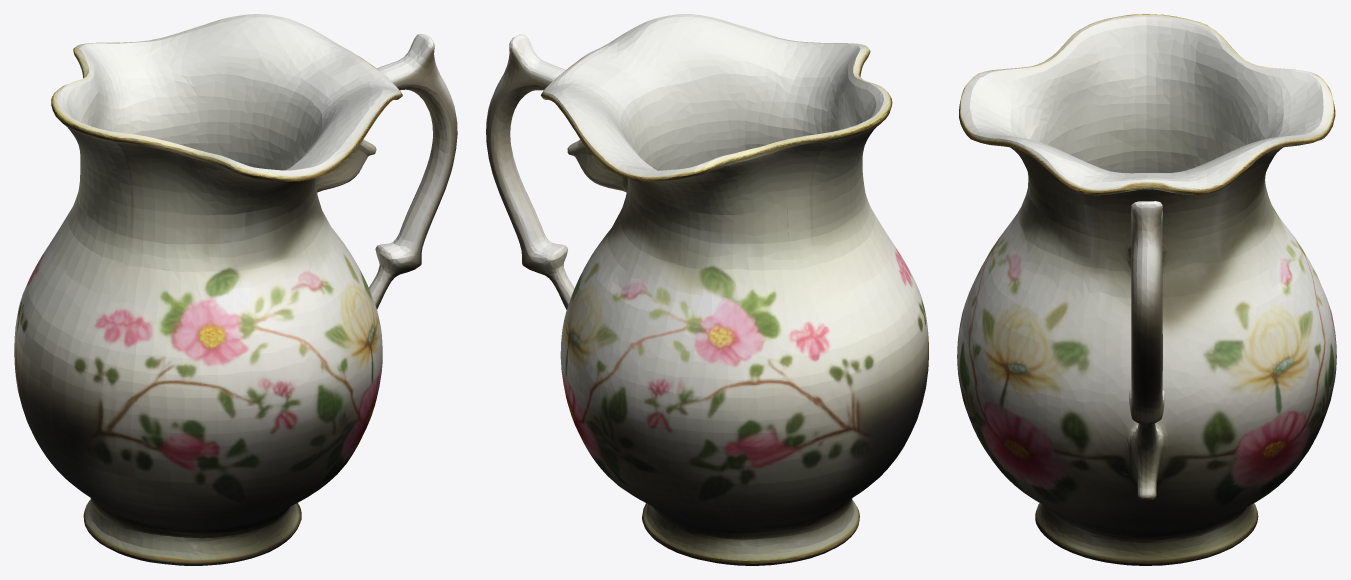
The model's file is porcelain-pitcher-vintage.jpeg.glb.
3 renders of one model, left to right at view 1: azimuth 30°, elevation 25°; view 2: azimuth 150°, elevation 25°; view 3: azimuth 270°, elevation 25°, orthographic.
Visible parts, largest first — view 1: world; view 2: world; view 3: world.
Part boxes in pixels (bbox=[...]): world: bbox=[14, 14, 457, 565]; world: bbox=[486, 14, 928, 565]; world: bbox=[957, 14, 1336, 565].
Size of the model in its own units: 0.9998 by 0.9986 by 0.7759.
1 material, 1 textured.
